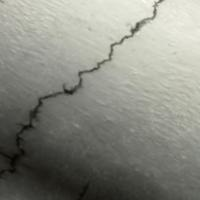crack: (5, 3, 164, 166)
